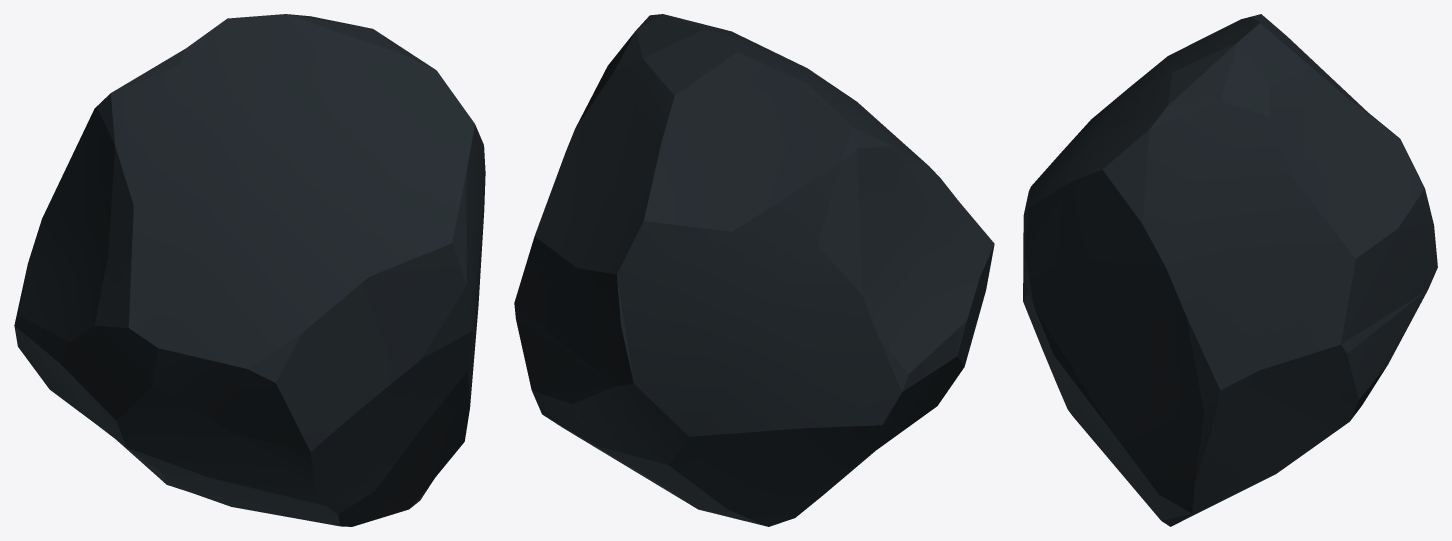
The model's file is Asteroid_s_25.FBX.
3 renders of one model, left to right at view 1: azimuth 30°, elevation 25°; view 2: azimuth 150°, elevation 25°; view 3: azimuth 270°, elevation 25°, orthographic. The views are drawn at different scales.
Parts seen in each view (by area): view 1: Asteroid_s_25; view 2: Asteroid_s_25; view 3: Asteroid_s_25.
Boxes of the visible parts, left/top/right/bottom form: Asteroid_s_25: left=14, top=14, right=485, bottom=526; Asteroid_s_25: left=514, top=14, right=994, bottom=526; Asteroid_s_25: left=1023, top=14, right=1437, bottom=526.
Bounding box in the file's own units: 131 × 144 × 122.
